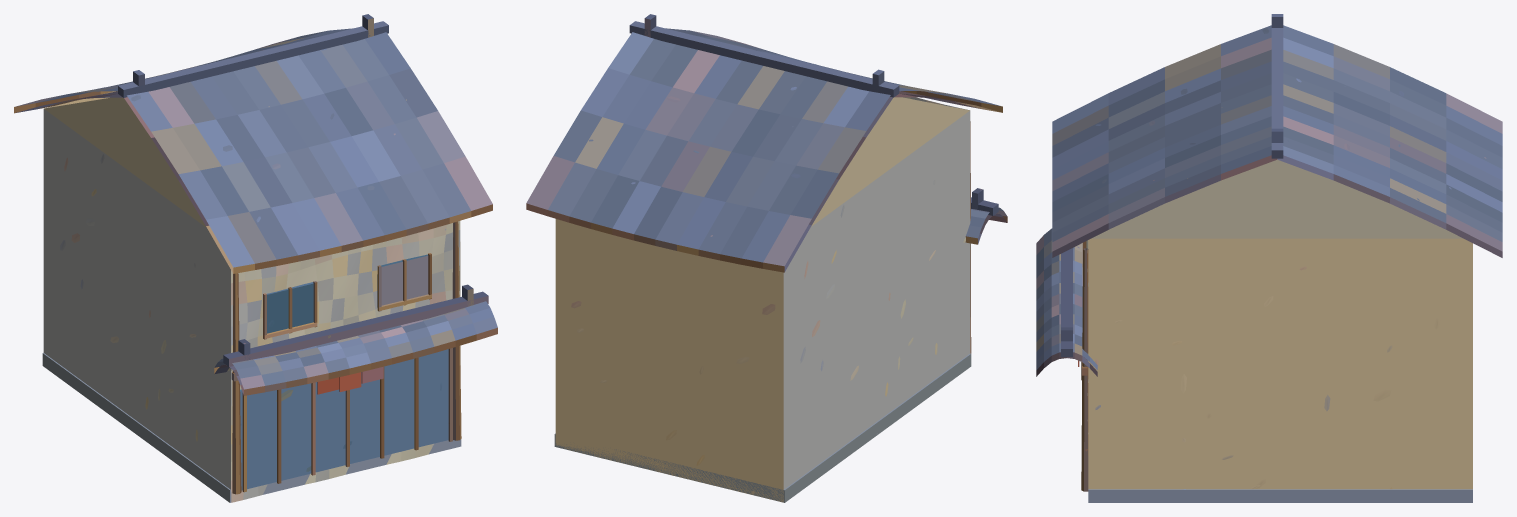
Rendered from HK_Machiya_B.lod.glb.
3 renders of one model, left to right at view 1: azimuth 30°, elevation 25°; view 2: azimuth 150°, elevation 25°; view 3: azimuth 270°, elevation 25°, orthographic. The views are drawn at different scales.
Visible parts, largest first — view 1: HK_Machiya_B; view 2: HK_Machiya_B; view 3: HK_Machiya_B.
Part boxes in pixels (bbox=[...]): HK_Machiya_B: bbox=[14, 14, 497, 502]; HK_Machiya_B: bbox=[526, 14, 1007, 502]; HK_Machiya_B: bbox=[1036, 14, 1502, 502].
Size of the model in its own units: 6.95 by 9.07 by 10.3.
